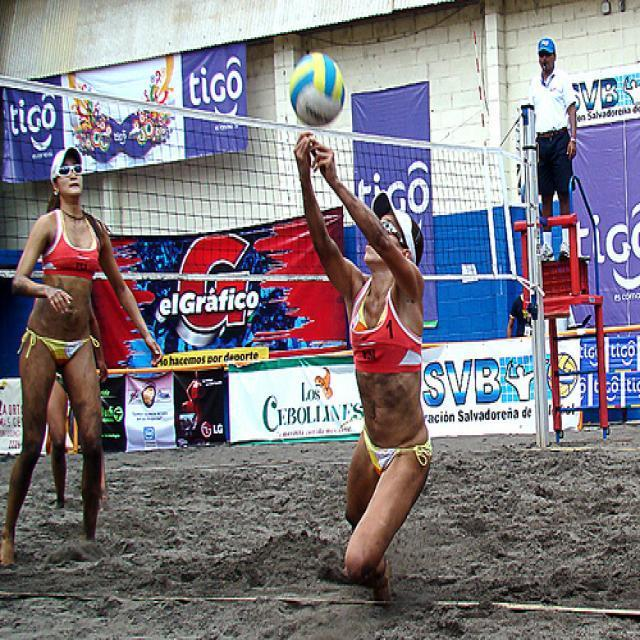volleyball: (288, 52, 346, 128)
